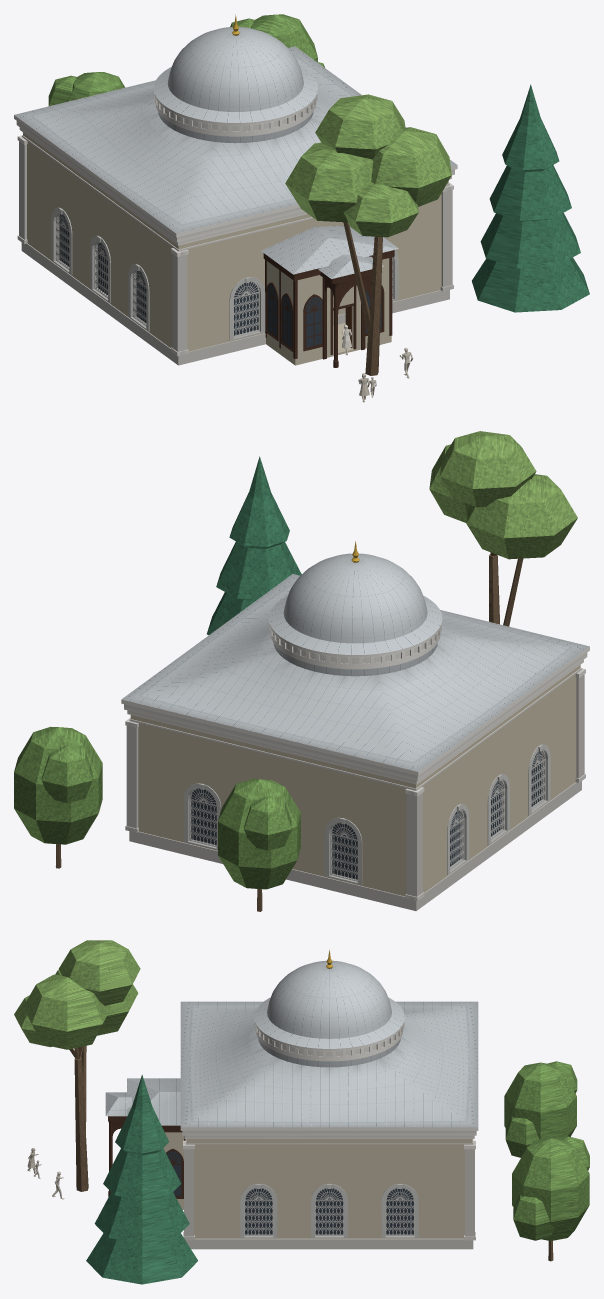
Rendered from orhan-gazi-turbesi_v01.glb.
3 renders of one model, top to bottom at view 1: azimuth 30°, elevation 25°; view 2: azimuth 150°, elevation 25°; view 3: azimuth 270°, elevation 25°, orthographic. The views are drawn at different scales.
Parts seen in each view (by area): view 1: Govde, Cati_Etek, Cevre_Agac_01, Cevre_Agac_04, Giris_Holu, Pilastr_Silme, Kubbe, Pencereler, Kasnak, Cevre_Agac_02, Cevre_Agac_03; view 2: Govde, Cati_Etek, Pilastr_Silme, Cevre_Agac_01, Kubbe, Cevre_Agac_02, Cevre_Agac_03, Pencereler, Cevre_Agac_04, Kasnak; view 3: Cati_Etek, Govde, Cevre_Agac_04, Cevre_Agac_01, Kubbe, Pilastr_Silme, Cevre_Agac_02, Cevre_Agac_03, Pencereler, Giris_Holu, Kasnak.
Part boxes in pixels (left/top/right/bottom): Govde: left=23, top=132, right=448, bottom=351; Cati_Etek: left=14, top=46, right=456, bottom=233; Cevre_Agac_01: left=285, top=94, right=451, bottom=375; Cevre_Agac_04: left=472, top=84, right=589, bottom=312; Giris_Holu: left=261, top=226, right=398, bottom=367; Pilastr_Silme: left=14, top=115, right=457, bottom=365; Kubbe: left=153, top=14, right=317, bottom=122; Pencereler: left=51, top=207, right=398, bottom=340; Kasnak: left=154, top=93, right=317, bottom=143; Cevre_Agac_02: left=230, top=14, right=324, bottom=67; Cevre_Agac_03: left=48, top=72, right=125, bottom=106; Govde: left=130, top=665, right=580, bottom=896; Cati_Etek: left=121, top=574, right=589, bottom=771; Pilastr_Silme: left=121, top=646, right=589, bottom=910; Cevre_Agac_01: left=429, top=431, right=577, bottom=626; Kubbe: left=268, top=541, right=442, bottom=654; Cevre_Agac_02: left=14, top=726, right=102, bottom=868; Cevre_Agac_03: left=218, top=779, right=300, bottom=911; Pencereler: left=183, top=744, right=550, bottom=884; Cevre_Agac_04: left=207, top=456, right=301, bottom=635; Kasnak: left=269, top=623, right=441, bottom=676; Cati_Etek: left=180, top=1001, right=478, bottom=1127; Govde: left=186, top=1139, right=472, bottom=1238; Cevre_Agac_04: left=86, top=1074, right=197, bottom=1284; Cevre_Agac_01: left=14, top=940, right=140, bottom=1191; Kubbe: left=254, top=949, right=404, bottom=1048; Pilastr_Silme: left=180, top=1127, right=478, bottom=1249; Cevre_Agac_02: left=512, top=1136, right=589, bottom=1261; Cevre_Agac_03: left=504, top=1061, right=577, bottom=1157; Pencereler: left=240, top=1183, right=418, bottom=1237; Giris_Holu: left=105, top=1078, right=185, bottom=1209; Kasnak: left=254, top=1022, right=404, bottom=1067.
Size of the model in its own units: 24.05 by 15.92 by 33.83.
Materials: 19 (8 with a texture image).
